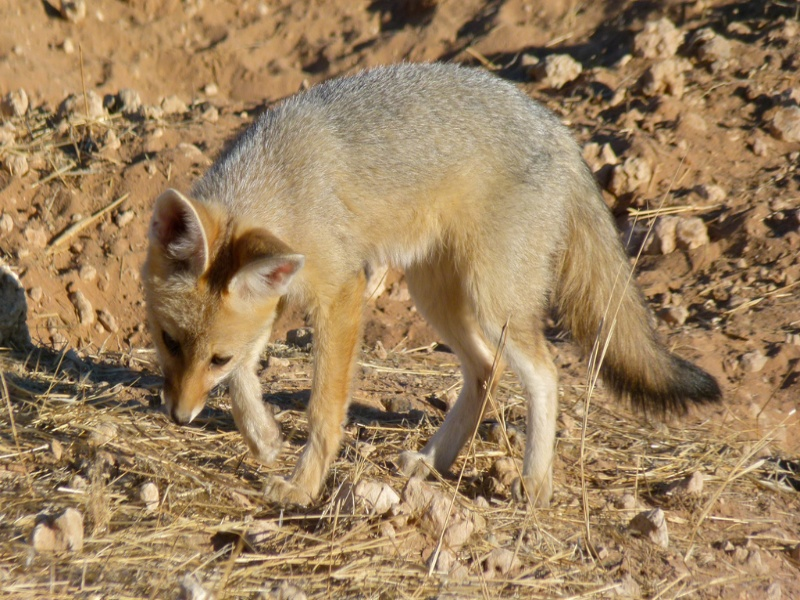fox: (133, 62, 725, 512)
